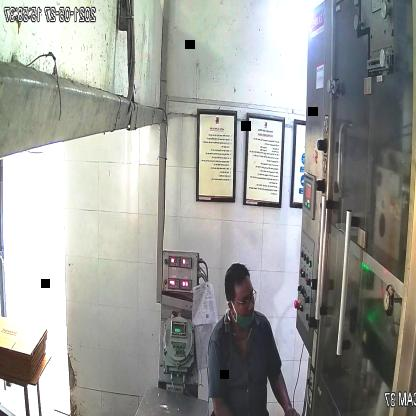goggles: (230, 286, 258, 310)
